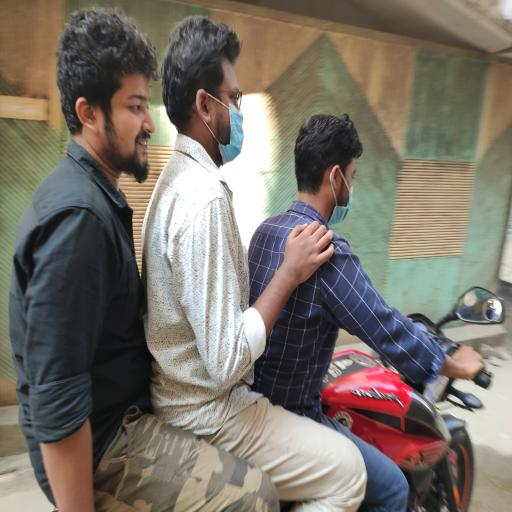overloading: (10, 7, 497, 508), (318, 282, 506, 510)
